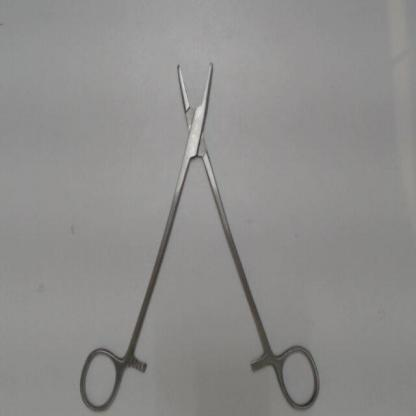8 Mayo Needle Holder: (73, 48, 326, 415)
